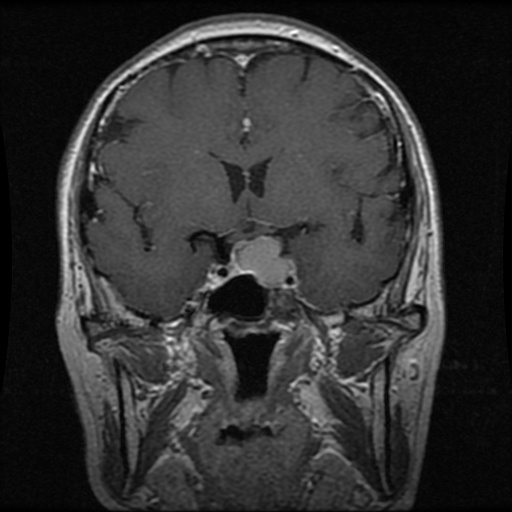pituitary: (233, 237, 290, 285)
